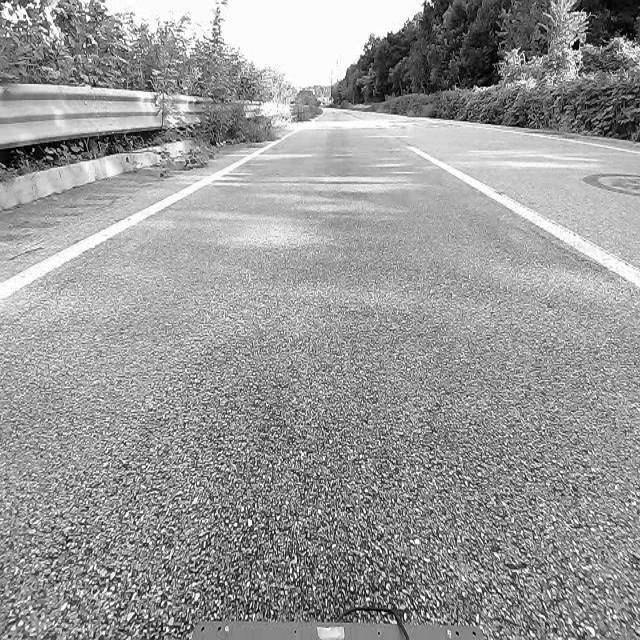Lane: (0, 117, 320, 318), (0, 127, 302, 306), (403, 130, 640, 287), (407, 145, 639, 288)
